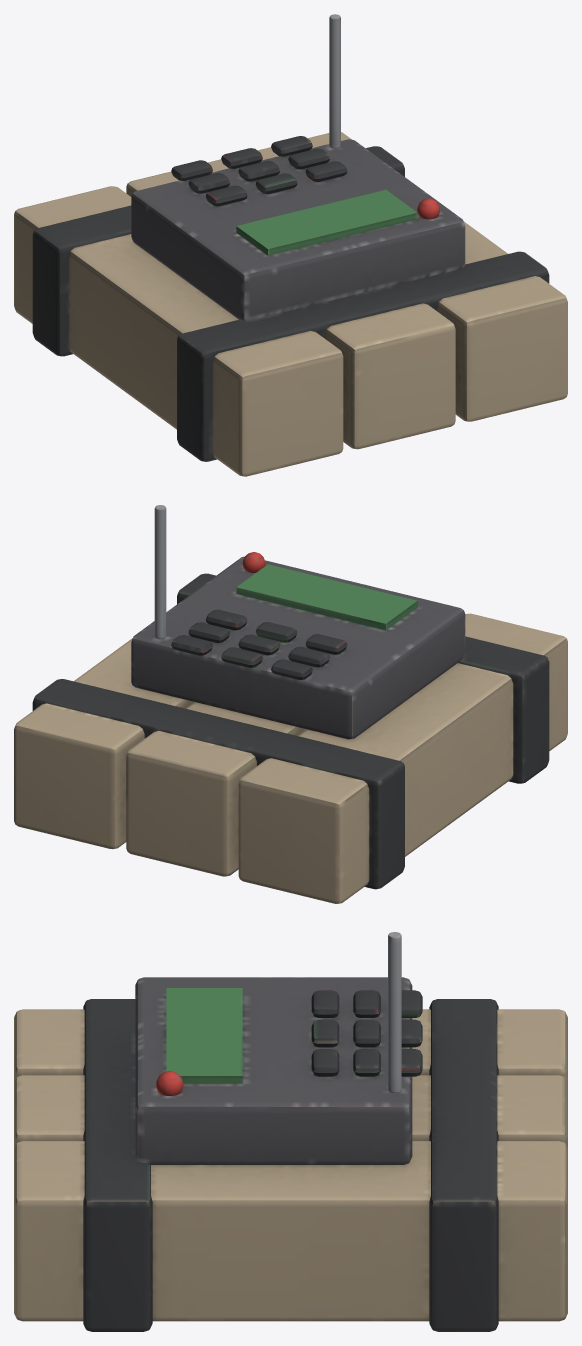
3 renders of one model, top to bottom at view 1: azimuth 30°, elevation 25°; view 2: azimuth 150°, elevation 25°; view 3: azimuth 270°, elevation 25°, orthographic. The views are drawn at different scales.
Parts seen in each view (by area): view 1: c4; view 2: c4; view 3: c4.
Boxes of the visible parts, x1,y1,x2,y2 form: c4: (14,14,567,476); c4: (14,505,567,903); c4: (14,932,567,1331).
Bounding box in the file's own units: 0.14 × 0.1115 × 0.16.
